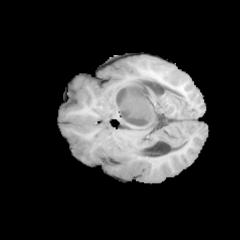glioma: (110, 83, 156, 130)
